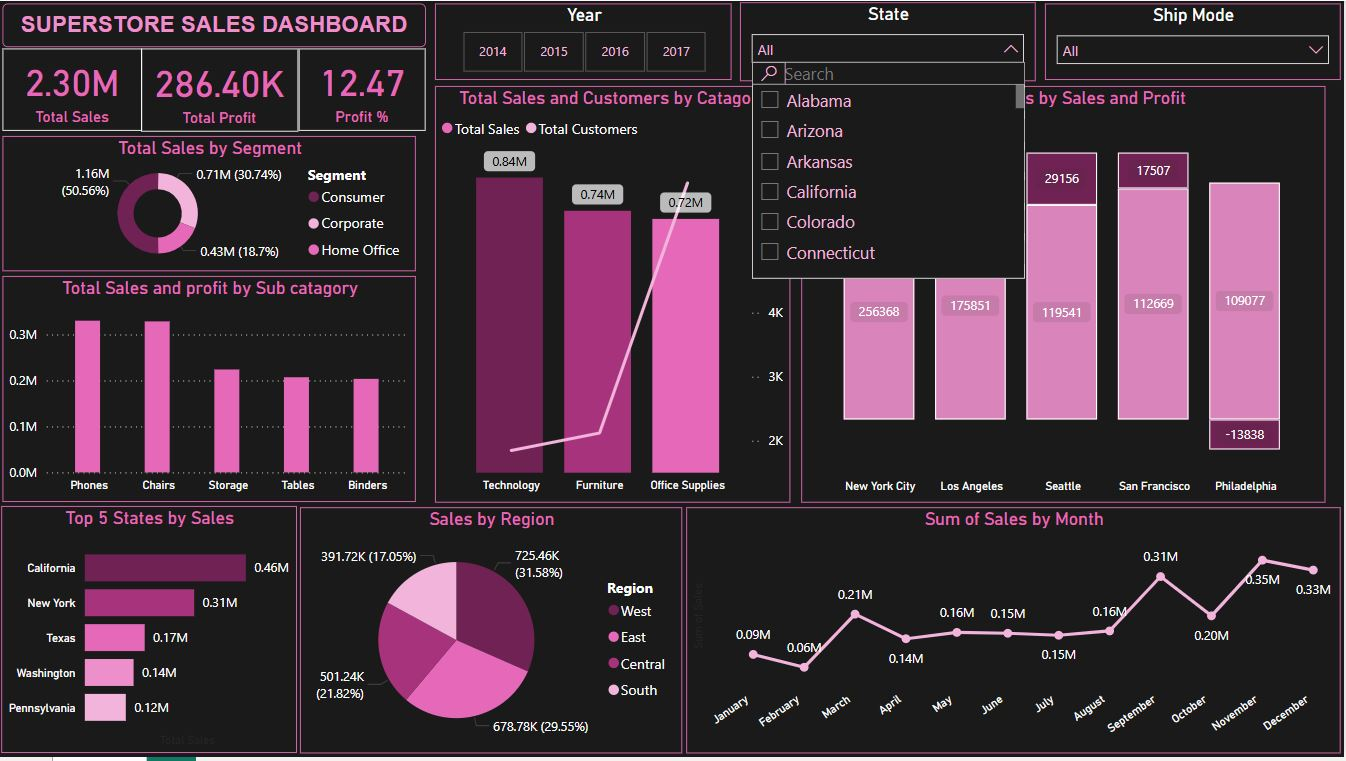

The page's visual inventory and layout, read from the dashboard file:
{"tool":"powerbi","page":{"name":"Page 1","canvas":[1280,720],"ordinal":0},"visuals":[{"type":"lineChart","fields":{"Y":["Sum(super store sales week 1.Sales)"],"Category":["super store sales week 1.Order Date.Variation.Date Hierarchy.Month"]},"box":[653.2,481.6,623,234.6],"z":0},{"type":"slicer","title":"Year","fields":{"Values":["super store sales week 1.Order Date.Variation.Date Hierarchy.Year"]},"box":[414.4,2.7,282.7,72.7],"z":1000},{"type":"card","fields":{"Values":["Sum(super store sales week 1.Sales)"]},"box":[0,39.8,133.1,78.2],"z":2000},{"type":"card","fields":{"Values":["Sum(super store sales week 1.Profit)"]},"box":[133.1,39.8,149.6,79.6],"z":3000},{"type":"card","fields":{"Values":["super store sales week 1.Profit divided by Sales"]},"box":[282.7,39.8,120.8,78.2],"z":4000},{"type":"pieChart","title":"Sales by Region","fields":{"Category":["super store sales week 1.Region"],"Y":["Sum(super store sales week 1.Sales)"]},"box":[285.4,481.6,363.6,234.6],"z":5000},{"type":"lineClusteredColumnComboChart","title":"Total Sales and Customers by Catagory","fields":{"Category":["super store sales week 1.Category"],"Y":["Sum(super store sales week 1.Sales)"],"Y2":["CountNonNull(super store sales week 1.Customer ID)"]},"box":[414.4,81,326.6,396.6],"z":6000},{"type":"ribbonChart","title":"Total Sales and profit by Sub catagory","fields":{"Category":["super store sales week 1.Sub-Category"],"Y":["Sum(super store sales week 1.Sales)"]},"box":[2.7,262.1,393.8,215.4],"z":7000},{"type":"slicer","title":"Ship Mode","fields":{"Values":["super store sales week 1.Ship Mode"]},"box":[994.9,2.7,281.3,72.7],"z":8000},{"type":"slicer","title":"State","fields":{"Values":["super store sales week 1.State"]},"box":[705.3,1.4,281.3,75.5],"z":9000},{"type":"clusteredBarChart","title":"Top 5 States by Sales","fields":{"Category":["super store sales week 1.State"],"Y":["Sum(super store sales week 1.Sales)"]},"box":[1.4,481.2,281.3,235],"z":10000},{"type":"textbox","box":[0,0,403.4,43.9],"z":11000},{"type":"donutChart","title":"Total Sales by Segment","fields":{"Category":["super store sales week 1.Segment"],"Y":["Sum(super store sales week 1.Sales)"]},"box":[2.7,129,393.8,129],"z":12000},{"type":"hundredPercentStackedColumnChart","title":"Top 5 Cities by Sales and Profit","fields":{"Category":["super store sales week 1.City"],"Y":["Sum(super store sales week 1.Sales)","Sum(super store sales week 1.Profit)"]},"box":[763,81,499.5,396.6],"z":13000}]}

Visuals, with their boxes in screenshot pixels (x1, y1, x2, y2), scaled from the page's 1280x720 canvas onto the 1346x761 screenshot:
lineChart - Sum(super store sales week 1.Sales) x super store sales week 1.Order Date.Variation.Date Hierarchy.Month: <region>687, 509, 1342, 757</region>
"Year" slicer: <region>436, 3, 733, 80</region>
card - Sum(super store sales week 1.Sales): <region>0, 42, 140, 125</region>
card - Sum(super store sales week 1.Profit): <region>140, 42, 297, 126</region>
card - super store sales week 1.Profit divided by Sales: <region>297, 42, 424, 125</region>
"Sales by Region" pieChart: <region>300, 509, 682, 757</region>
"Total Sales and Customers by Catagory" lineClusteredColumnComboChart: <region>436, 86, 779, 505</region>
"Total Sales and profit by Sub catagory" ribbonChart: <region>3, 277, 417, 505</region>
"Ship Mode" slicer: <region>1046, 3, 1342, 80</region>
"State" slicer: <region>742, 1, 1037, 81</region>
"Top 5 States by Sales" clusteredBarChart: <region>1, 509, 297, 757</region>
textbox: <region>0, 0, 424, 46</region>
"Total Sales by Segment" donutChart: <region>3, 136, 417, 273</region>
"Top 5 Cities by Sales and Profit" hundredPercentStackedColumnChart: <region>802, 86, 1328, 505</region>
